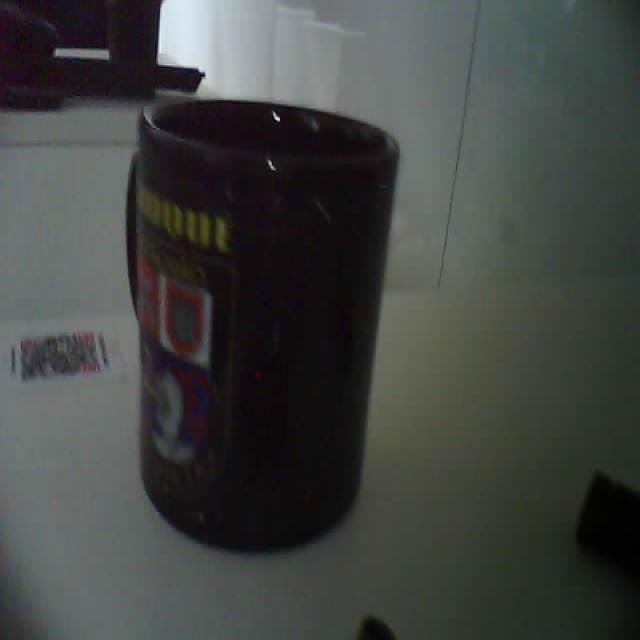caneca: (127, 100, 396, 548)
